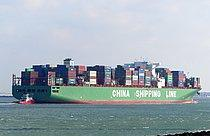Ship: (9, 52, 205, 111)
